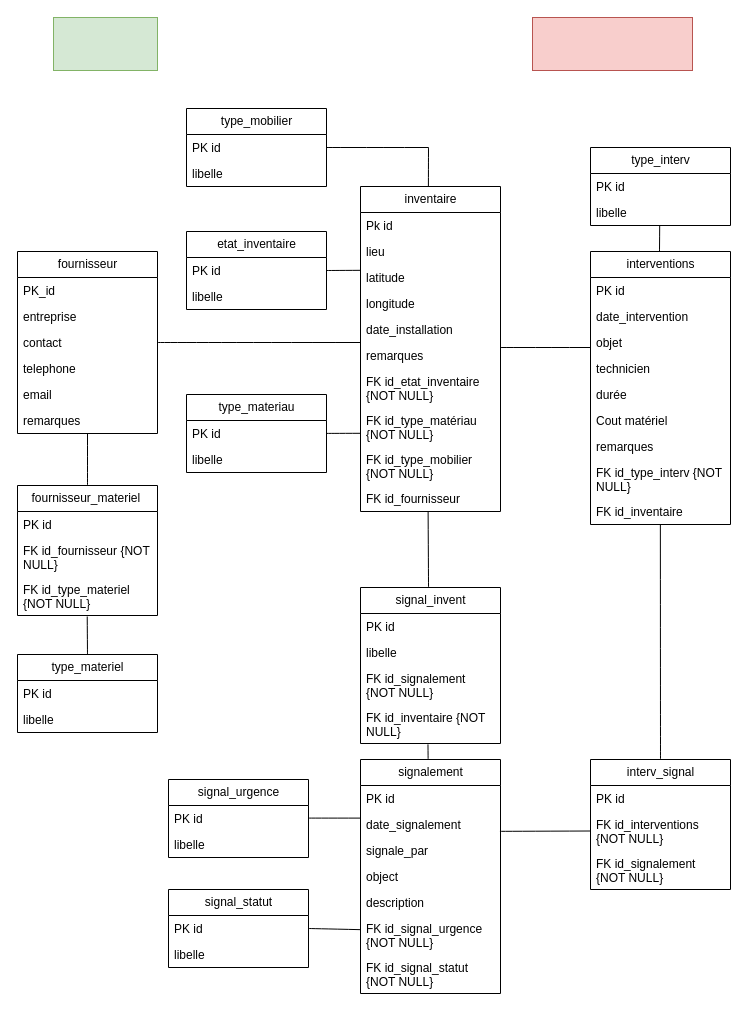
This 748x1014 diagram has some shape labels left out. The shapes that lost their labels are listed below. From the top down, each one's centre as x and y in pixels, then its label:
At [105,43]: "MLD".
At [612,43]: "Toutes les PK_id sont {unique, not null}".
